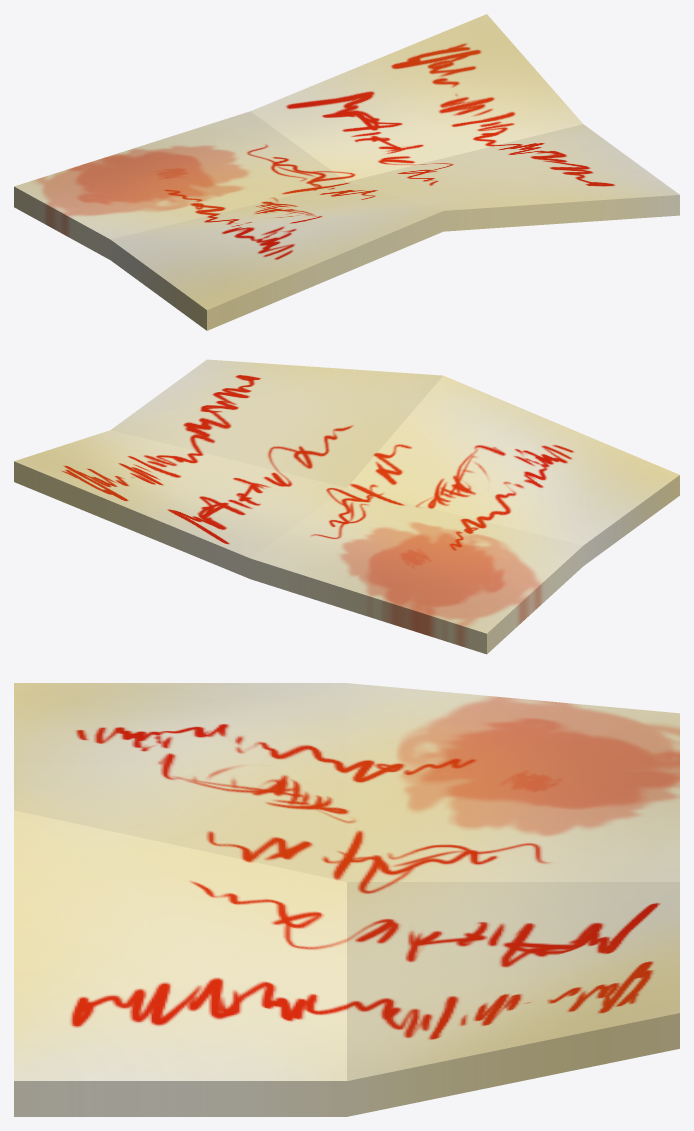
The model's file is note.fbx.
3 renders of one model, top to bottom at view 1: azimuth 30°, elevation 25°; view 2: azimuth 150°, elevation 25°; view 3: azimuth 270°, elevation 25°, orthographic. The views are drawn at different scales.
Parts seen in each view (by area): view 1: pCube1; view 2: pCube1; view 3: pCube1.
Boxes of the visible parts, x1=… form: pCube1: x1=14, y1=14, x2=679, y2=330; pCube1: x1=14, y1=359, x2=679, y2=654; pCube1: x1=14, y1=683, x2=679, y2=1116.
Size of the model in its own units: 19.16 by 3.09 by 13.55.
